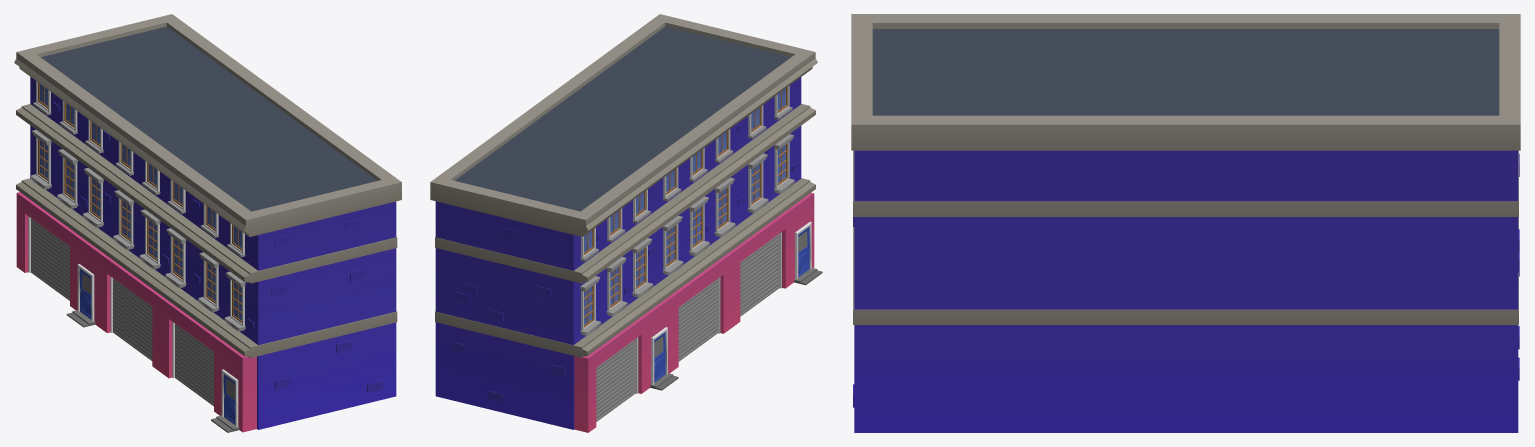
The model's file is Building_20_2_G.glb.
The picture shows the model from 3 angles, left to right: view 1: azimuth 30°, elevation 25°; view 2: azimuth 150°, elevation 25°; view 3: azimuth 270°, elevation 25°; orthographic projection. The views are drawn at different scales.
Visible parts, largest first — view 1: Building_20_2_G; view 2: Building_20_2_G; view 3: Building_20_2_G.
Part boxes in pixels (bbox=[...]): Building_20_2_G: bbox=[14, 14, 401, 432]; Building_20_2_G: bbox=[430, 14, 822, 432]; Building_20_2_G: bbox=[851, 14, 1520, 432].
Size of the model in its own units: 7.74 by 9.38 by 18.27.
Materials: 4 (4 with a texture image).
